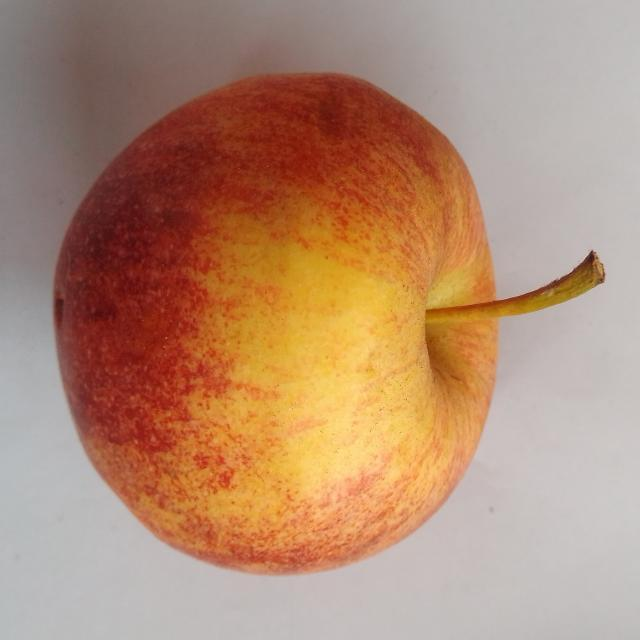Fresh Apple: (48, 64, 510, 578)
